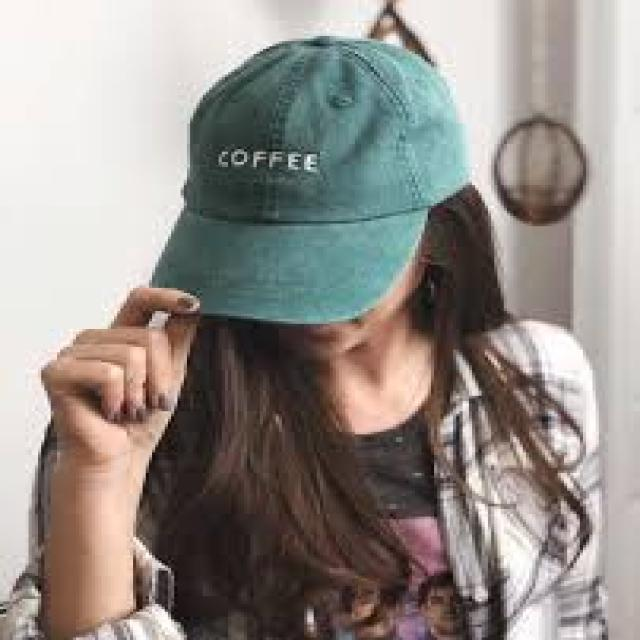cap: (110, 12, 512, 354)
